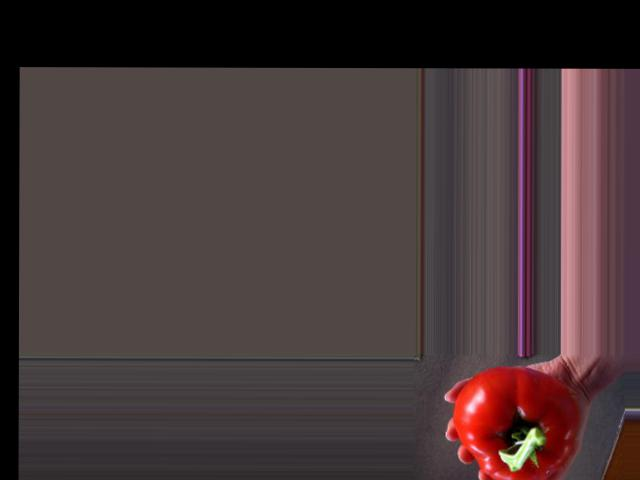tomato: (452, 366, 578, 480)
